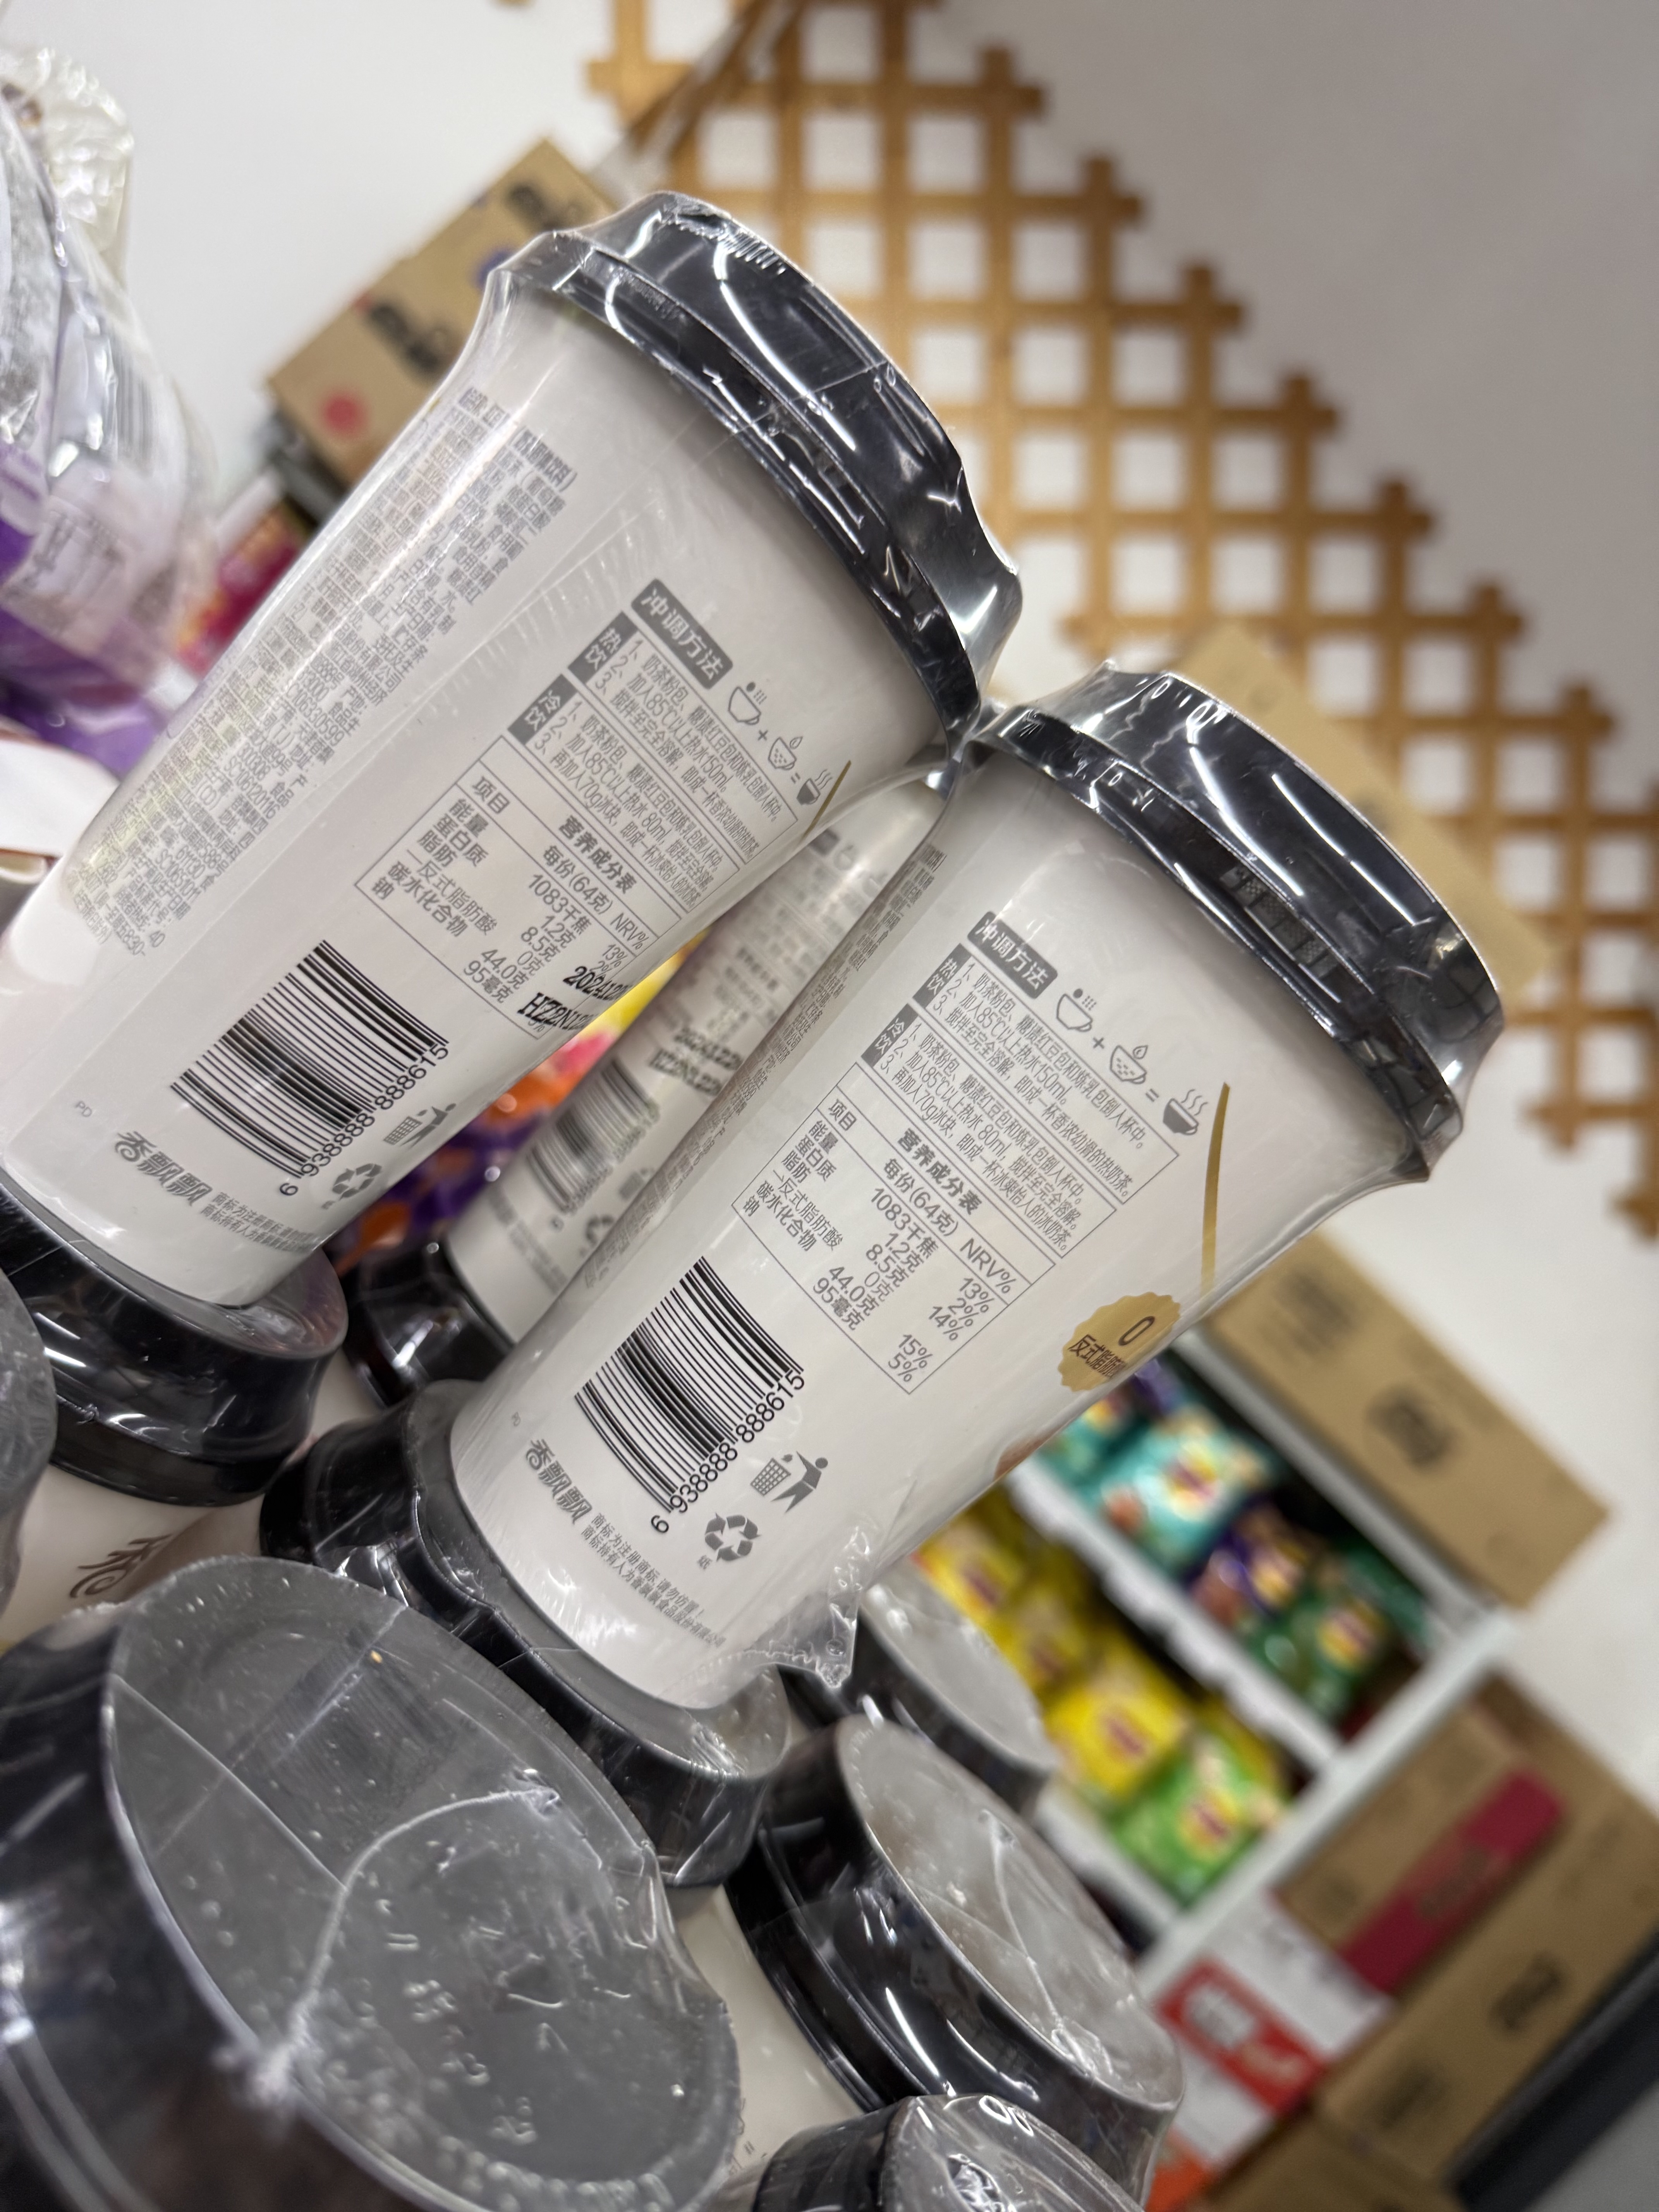bar: (164, 934, 462, 1190), (565, 1244, 809, 1519)
